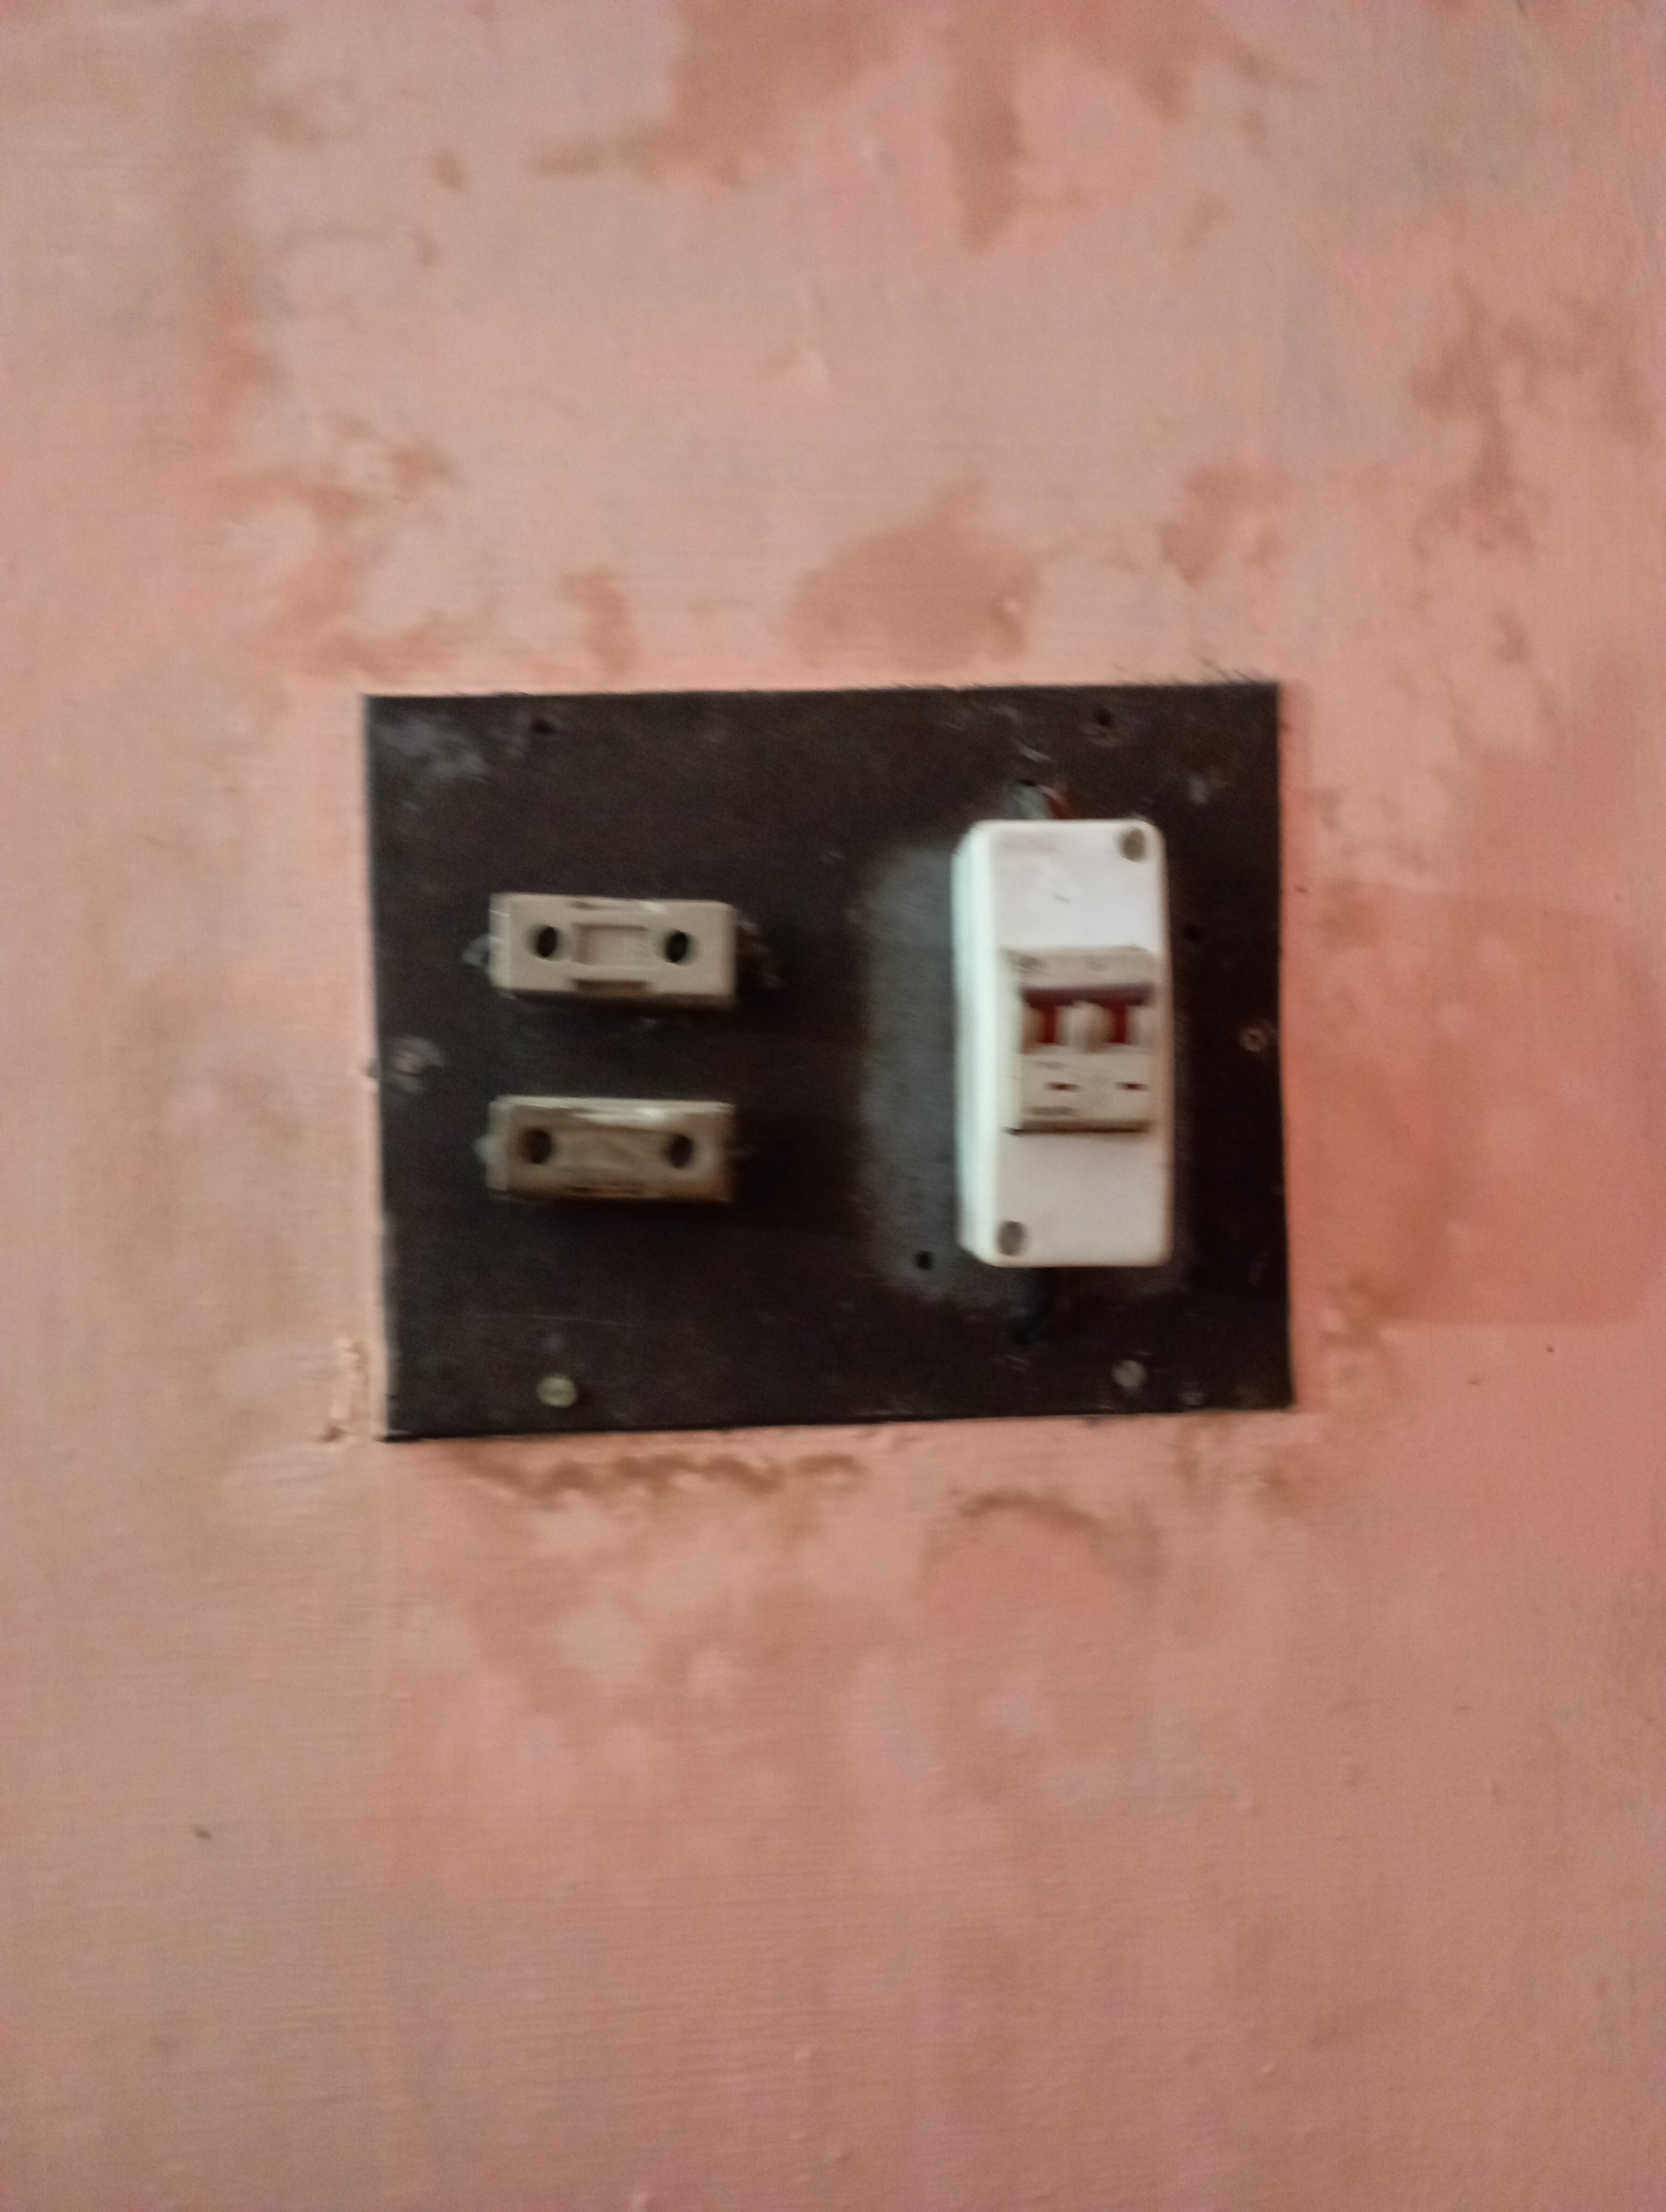ciruit_breaker: (922, 811, 1208, 1282)
fuse: (462, 876, 744, 1023), (481, 1079, 744, 1212)
